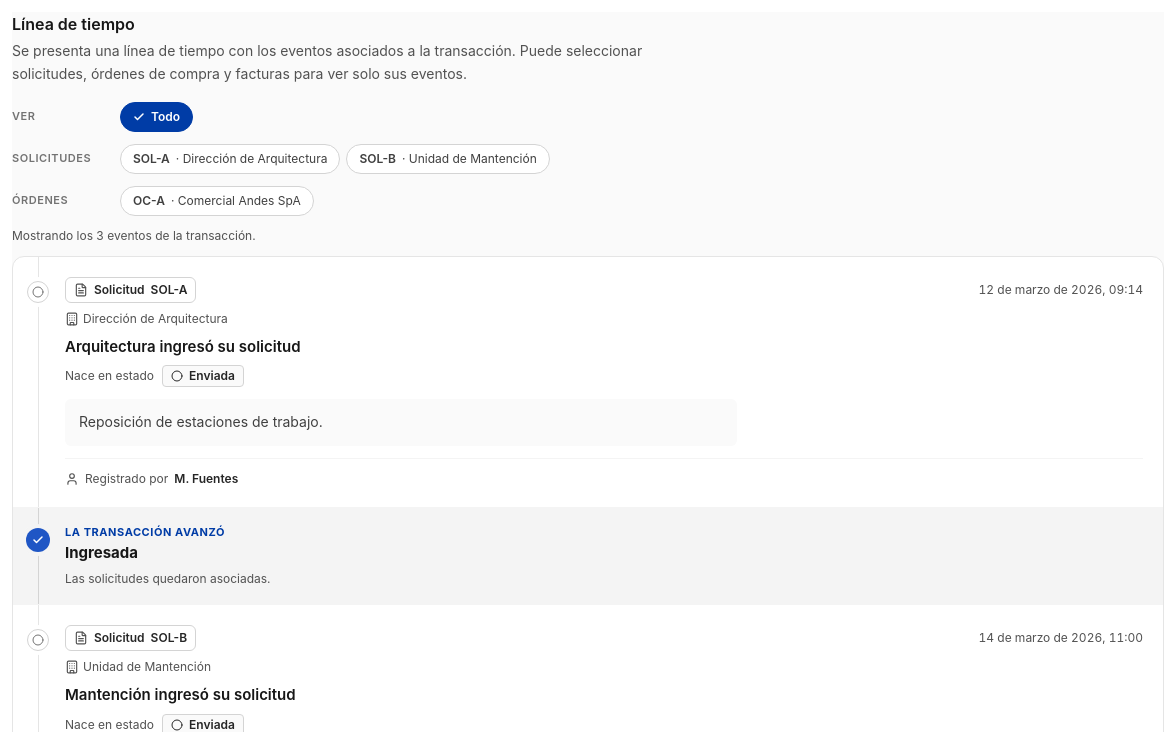
Test: LineaDeTiempo › quita una entidad al volver a pulsar su chip
The image size is (1164, 732).
Click the button "SOL-A · Dirección de Arquitectura" at (230, 158), box [120,144,340,174]
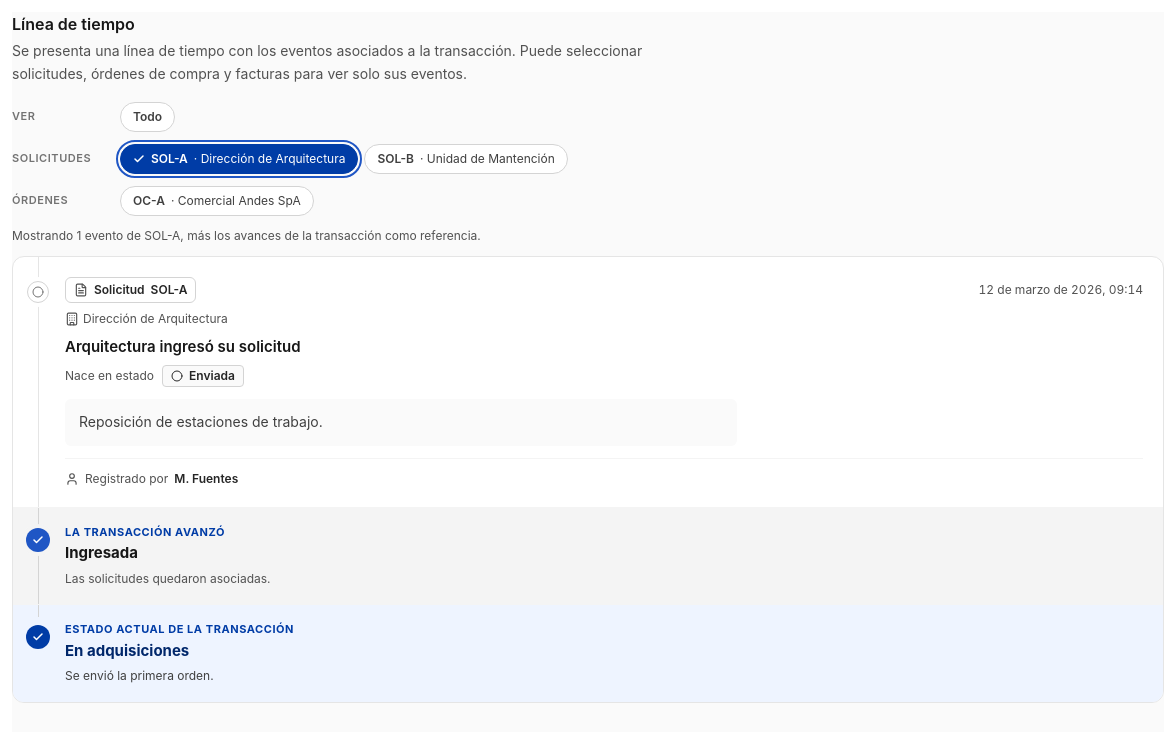
Click the button "SOL-A · Dirección de Arquitectura" at (239, 158), box [120,144,358,174]
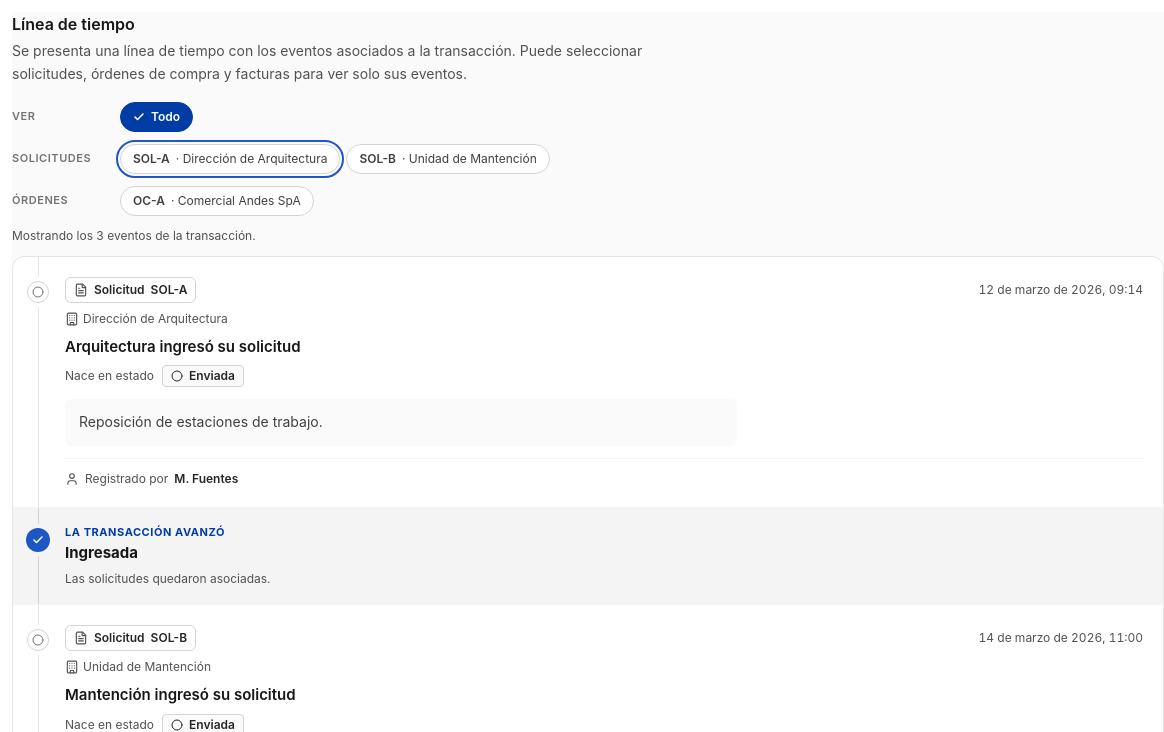
Check: the heading "Mantención ingresó su solicitud" is shown, box [65,685,296,704]
Check: the message reads "Mostrando los 3 eventos de la transacción.", box [12,228,256,242]
